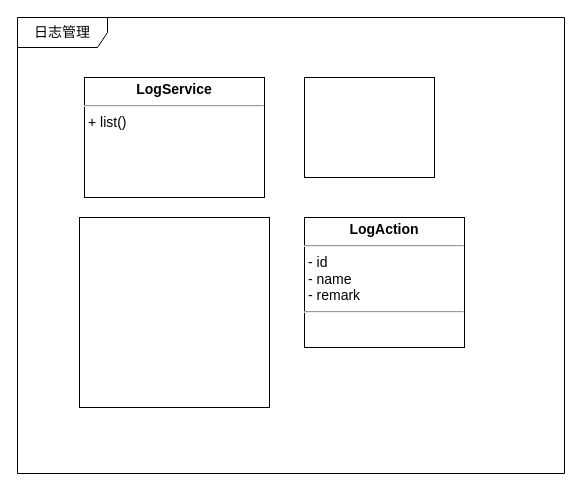
Some shapes in this 582 by 491 pixel diagram are drawn without their labels. Each missing label, with the box of its shape:
CleanRegular + clean(): (304, 76, 434, 178)
Log - id - operator - groupId - actionId - time - target - oldData - newData: (78, 216, 270, 408)
